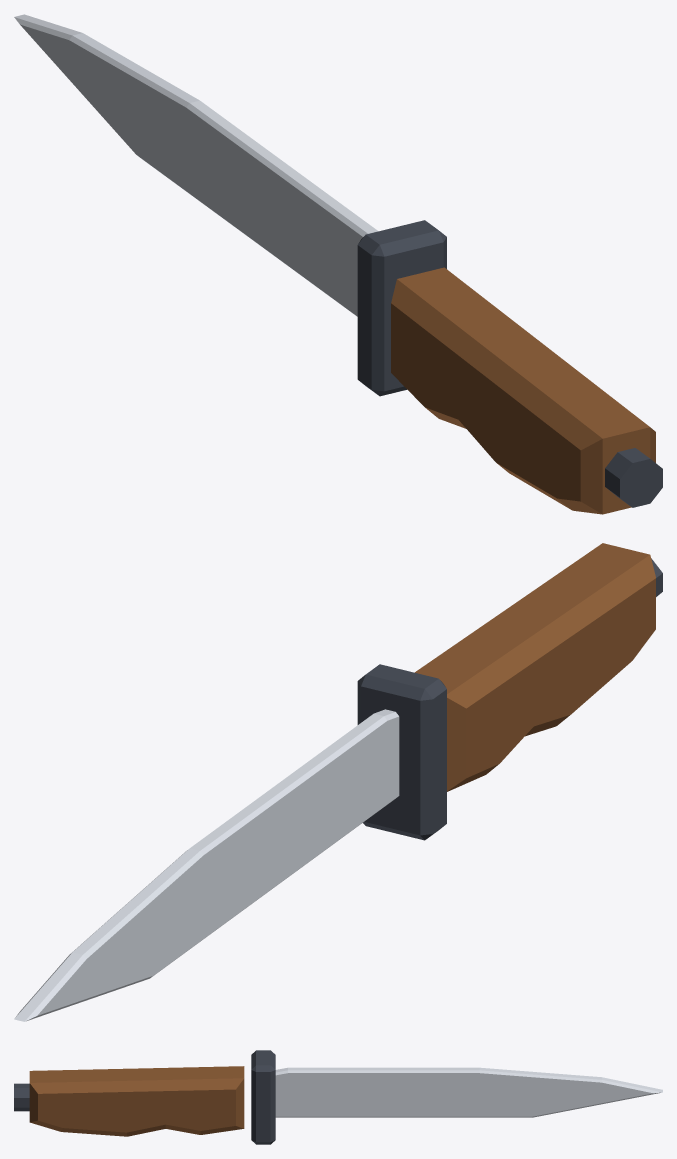
Rendered from knife.glb.
3 renders of one model, top to bottom at view 1: azimuth 30°, elevation 25°; view 2: azimuth 150°, elevation 25°; view 3: azimuth 270°, elevation 25°, orthographic. The views are drawn at different scales.
Parts seen in each view (by area): view 1: knife_blade; view 2: knife_blade; view 3: knife_blade.
Boxes of the visible parts, <box> form: knife_blade: <box>14,14,662,514</box>; knife_blade: <box>14,543,662,1021</box>; knife_blade: <box>14,1050,662,1144</box>.
Size of the model in its own units: 0.026 by 0.05 by 0.372.
